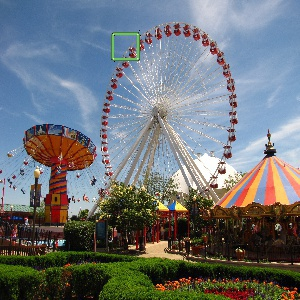square: (110, 31, 141, 61)
